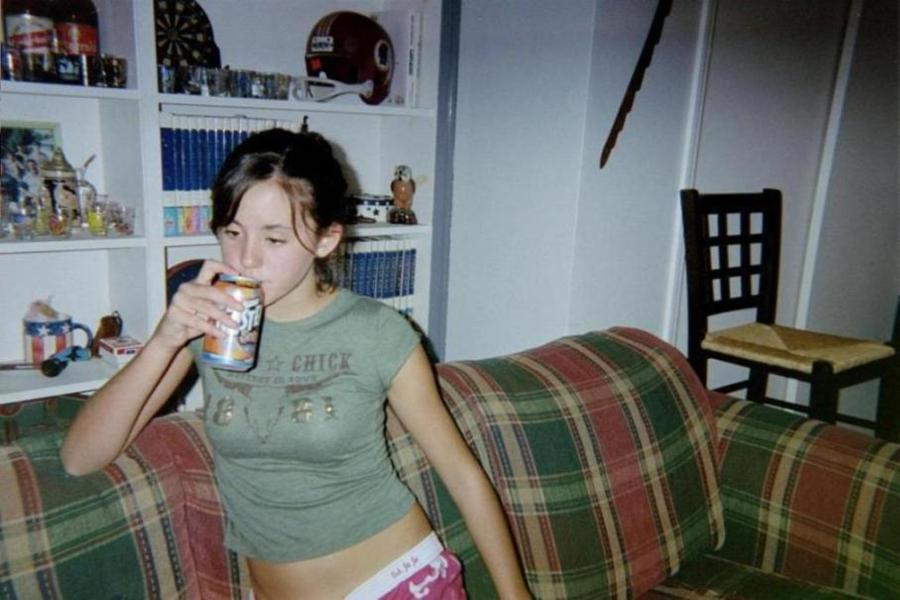person: (60, 126, 539, 600)
